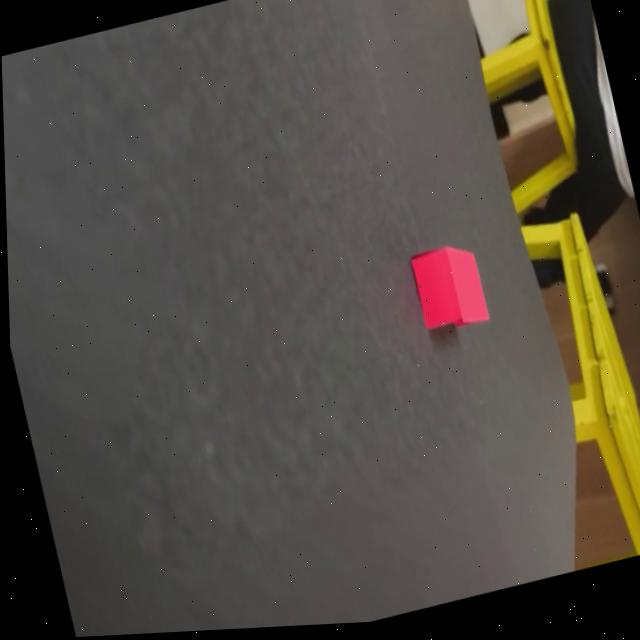red block: (407, 238, 491, 339)
